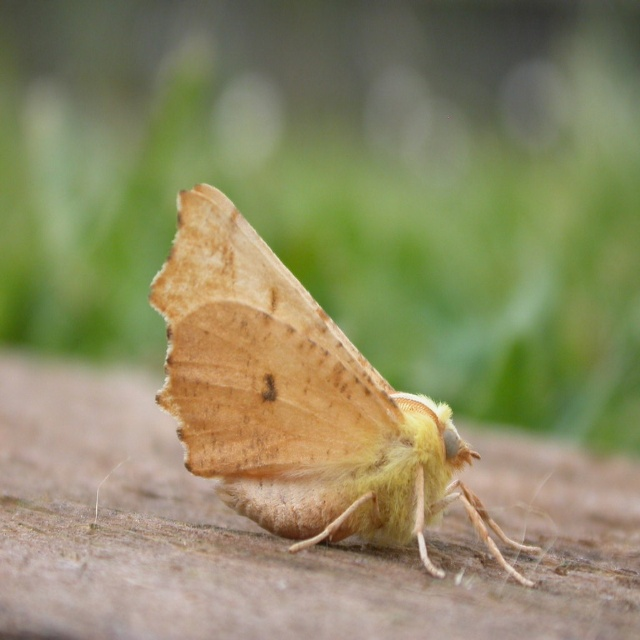Butterfly: (190, 290, 518, 593)
